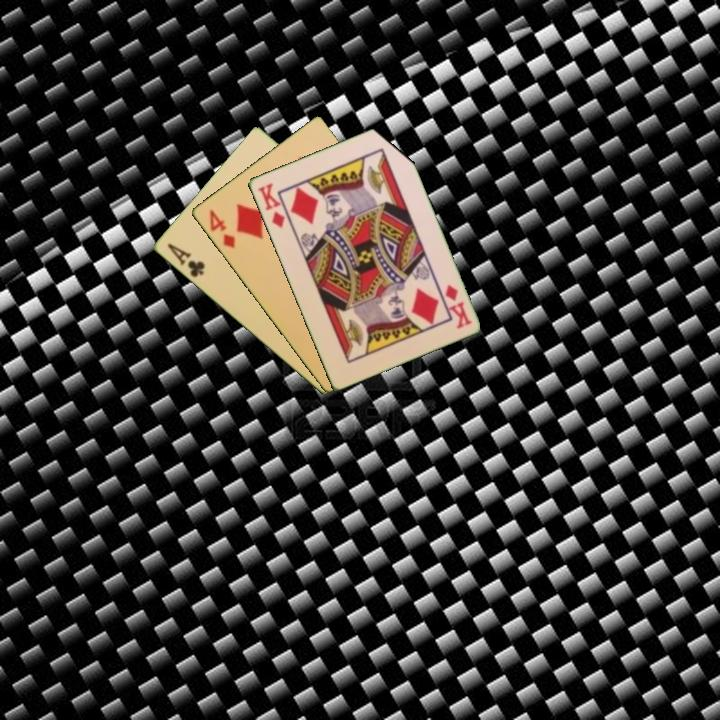4d: (205, 206, 238, 251)
Ac: (163, 240, 207, 280)
Kd: (254, 179, 287, 231), (441, 281, 474, 331)
